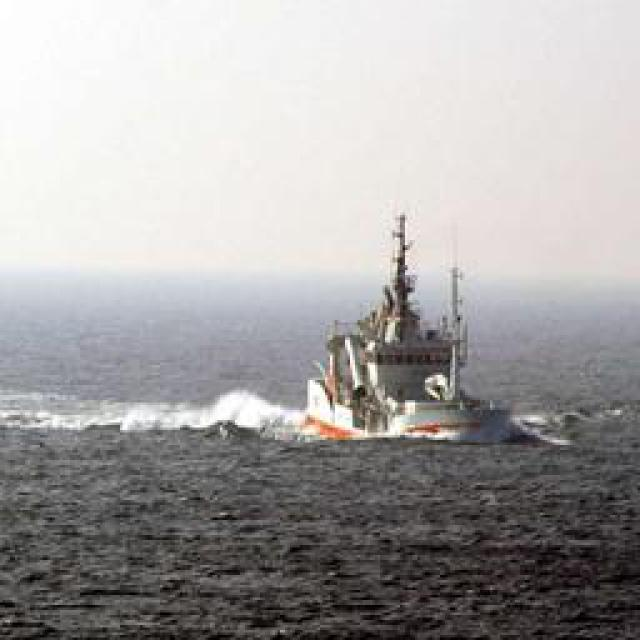Ship: (298, 210, 546, 450)
